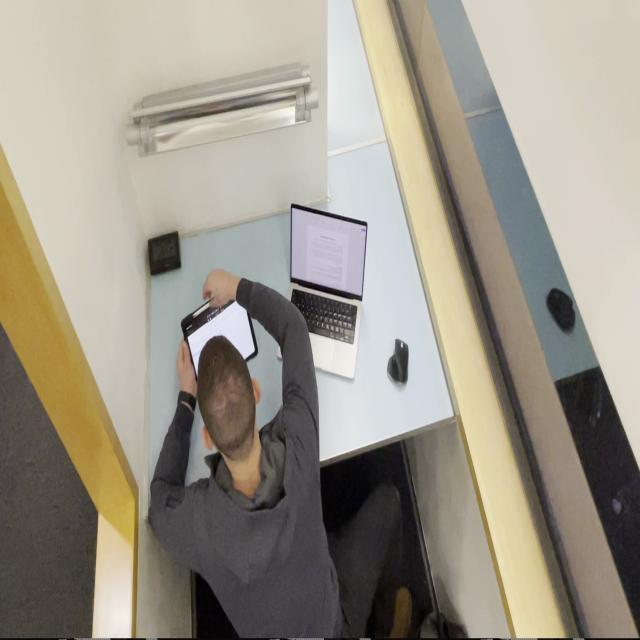bag: (183, 301, 260, 388)
ipad: (147, 268, 413, 639)
laptop: (276, 202, 368, 381)
mouse: (386, 334, 412, 389)
